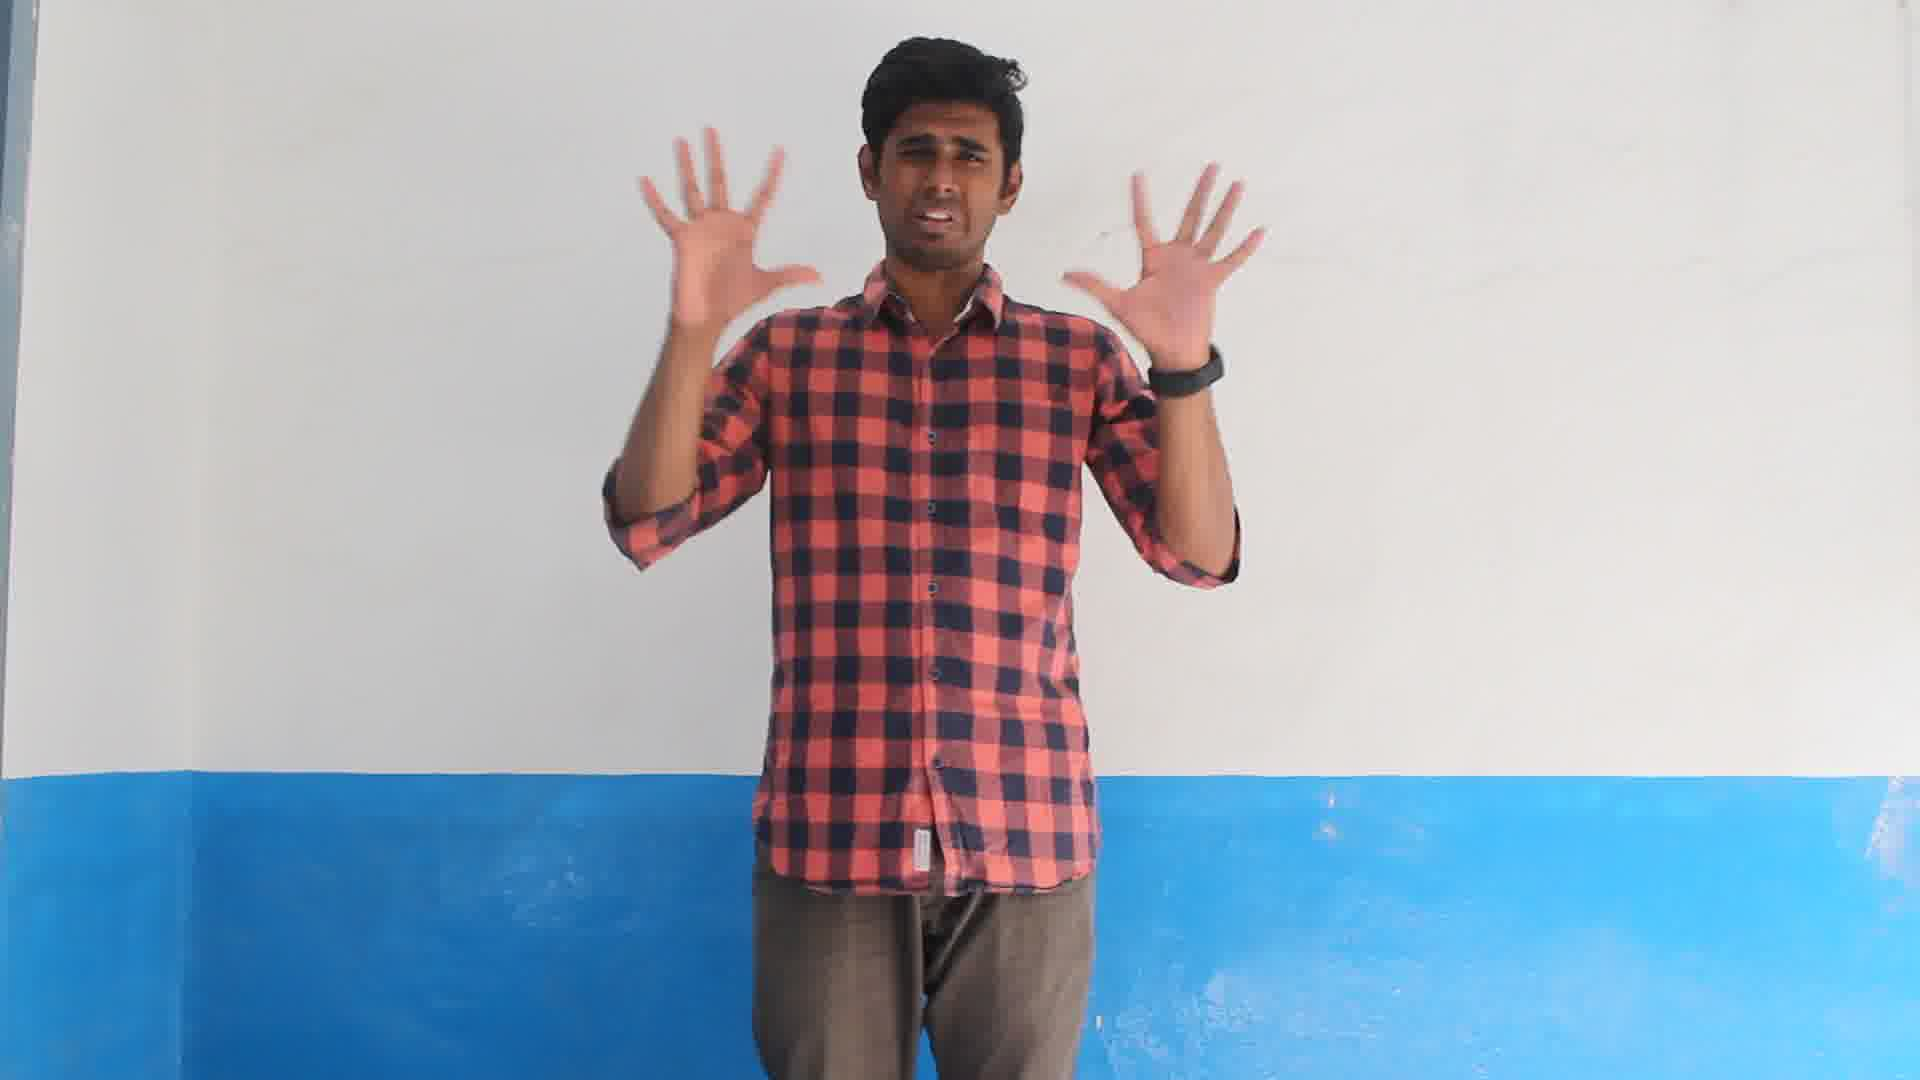loud: (587, 117, 1283, 384)
